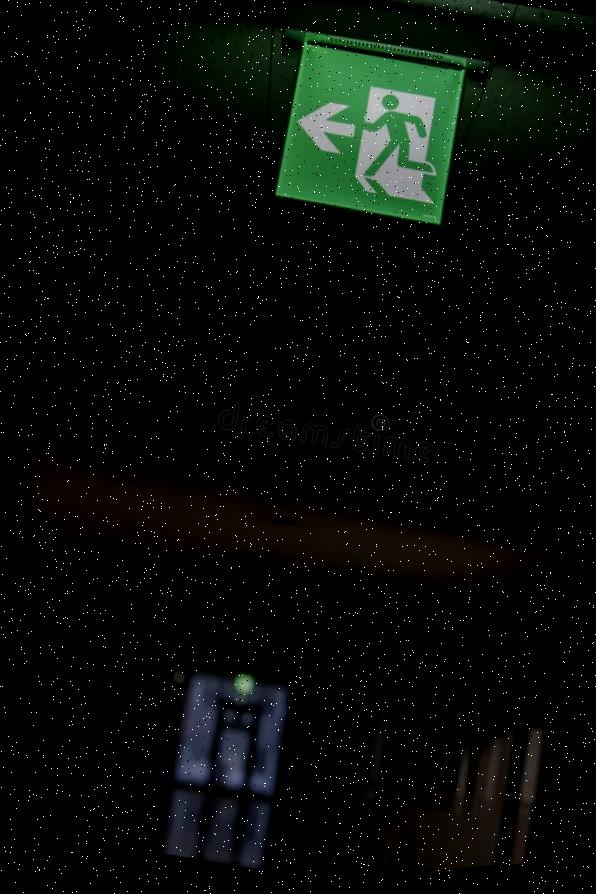emergency_exit: (272, 29, 486, 227)
